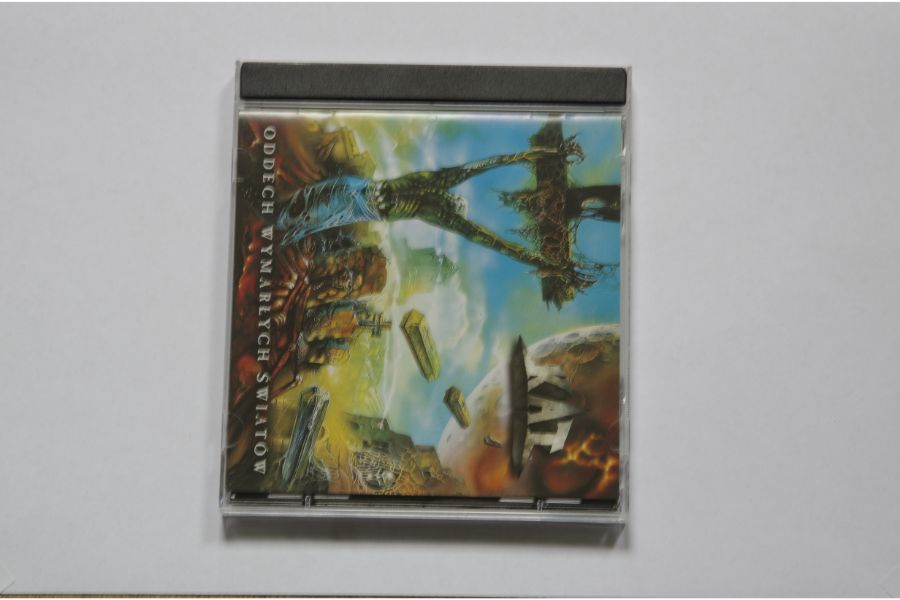album: (218, 60, 631, 525)
